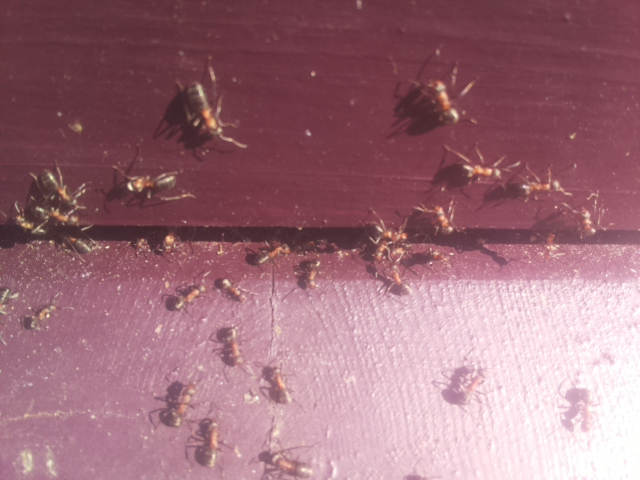ant: (174, 67, 234, 151), (100, 164, 174, 213), (30, 159, 88, 219), (157, 374, 203, 432), (553, 380, 599, 437), (423, 73, 465, 126), (251, 446, 314, 480), (216, 317, 250, 376), (193, 413, 226, 473), (163, 279, 208, 316), (16, 301, 67, 333), (207, 273, 251, 307), (260, 364, 296, 405), (452, 160, 509, 183), (247, 241, 293, 269), (429, 202, 460, 238), (386, 262, 412, 300), (575, 205, 599, 240), (516, 176, 565, 192), (304, 257, 320, 293), (0, 287, 20, 315)
